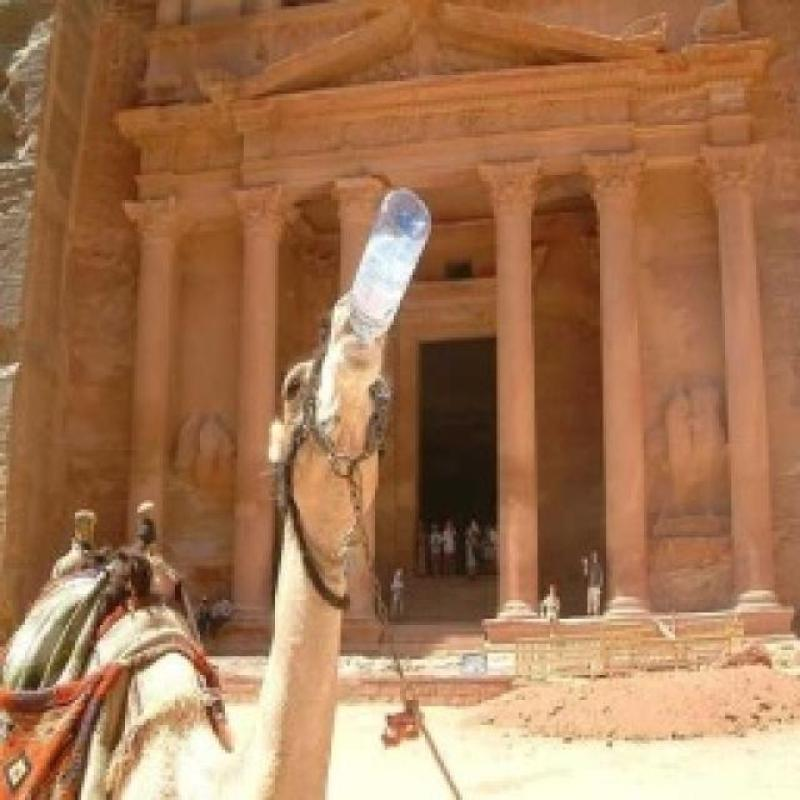botella: (349, 187, 436, 341)
